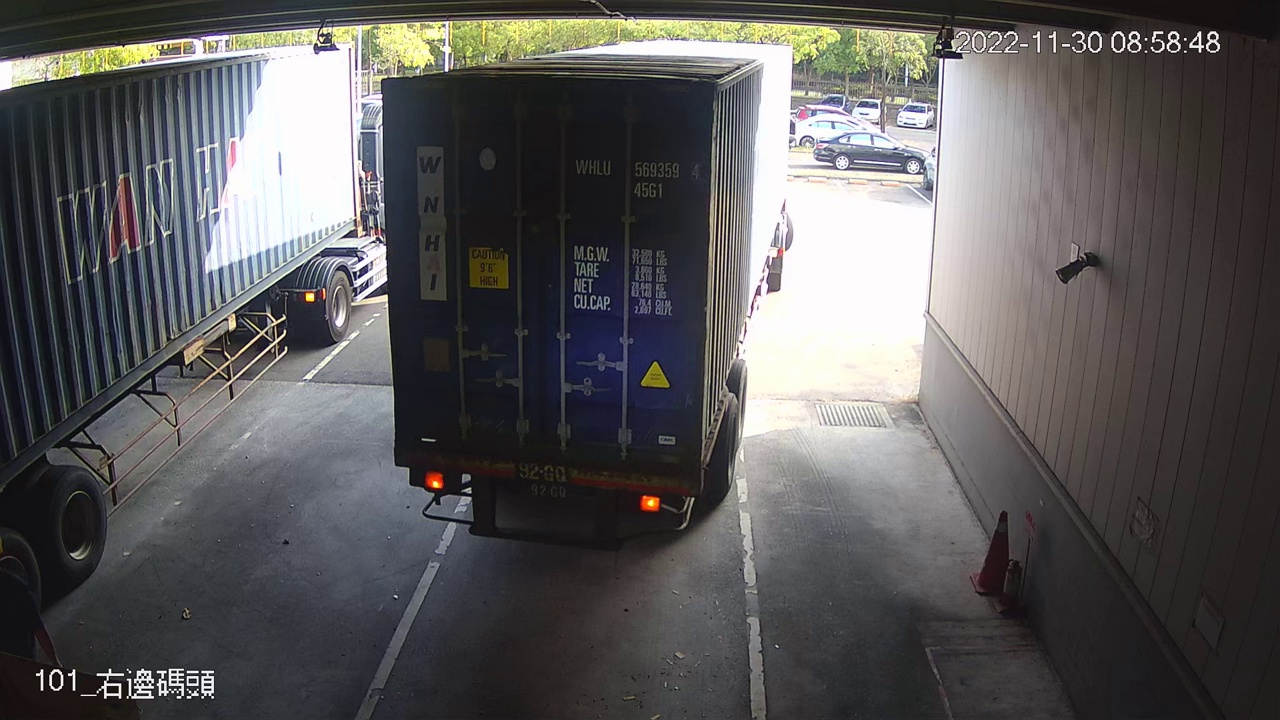container: (568, 152, 705, 203)
